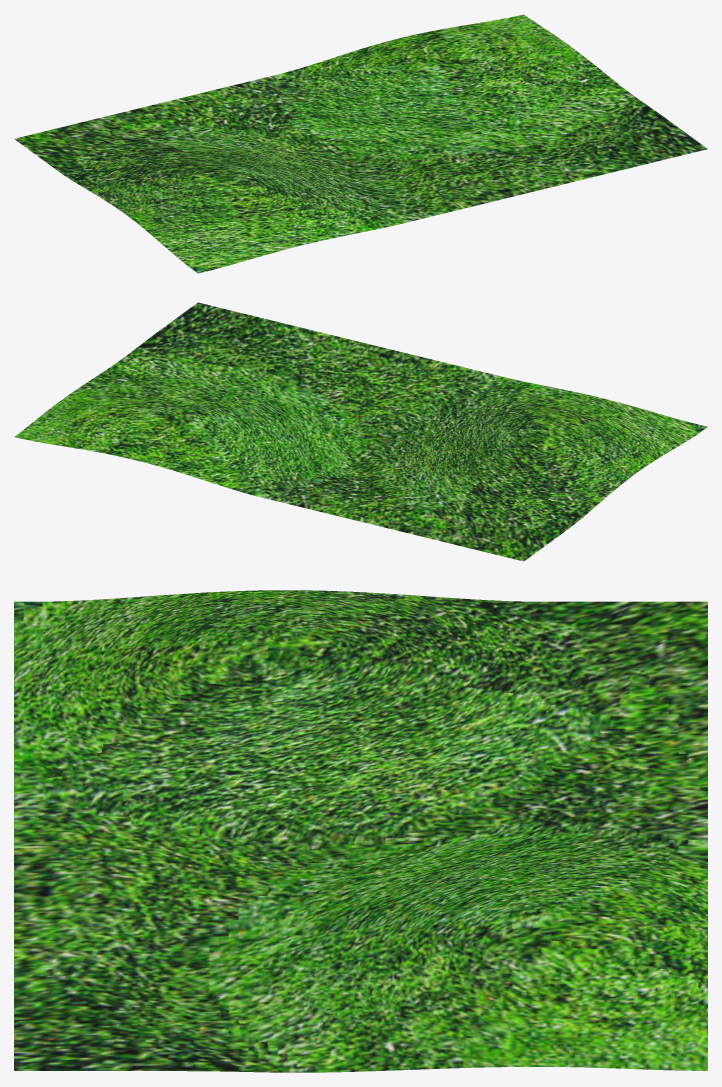
The model's file is grass.fbx.
3 renders of one model, top to bottom at view 1: azimuth 30°, elevation 25°; view 2: azimuth 150°, elevation 25°; view 3: azimuth 270°, elevation 25°, orthographic. The views are drawn at different scales.
Visible parts, largest first — view 1: grass; view 2: grass; view 3: grass.
Part boxes in pixels (x1,y1,x2,y2): grass: [14, 14, 707, 273]; grass: [14, 302, 707, 561]; grass: [14, 590, 707, 1072].
Size of the model in its own units: 1600 by 88.04 by 1000.
1 material, 1 textured.
